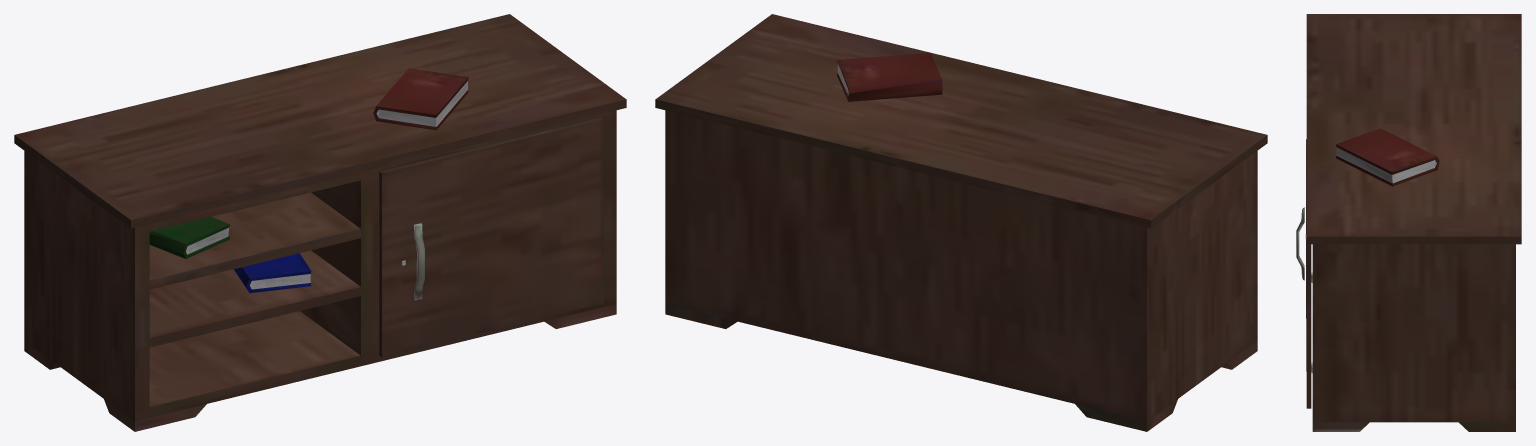
File: tvstand.gltf
3 views of the same model, side by side, from view 1: azimuth 30°, elevation 25°; view 2: azimuth 150°, elevation 25°; view 3: azimuth 270°, elevation 25° (orthographic). The views are drawn at different scales.
Parts seen in each view (by area): view 1: body; view 2: body; view 3: body.
Part boxes in pixels (<box>): body: <box>14,14,626,431</box>; body: <box>655,14,1267,431</box>; body: <box>1296,14,1521,431</box>.
Bounding box in the file's own units: 1.5 × 0.668 × 0.6418.
Materials: 1 (1 with a texture image).
